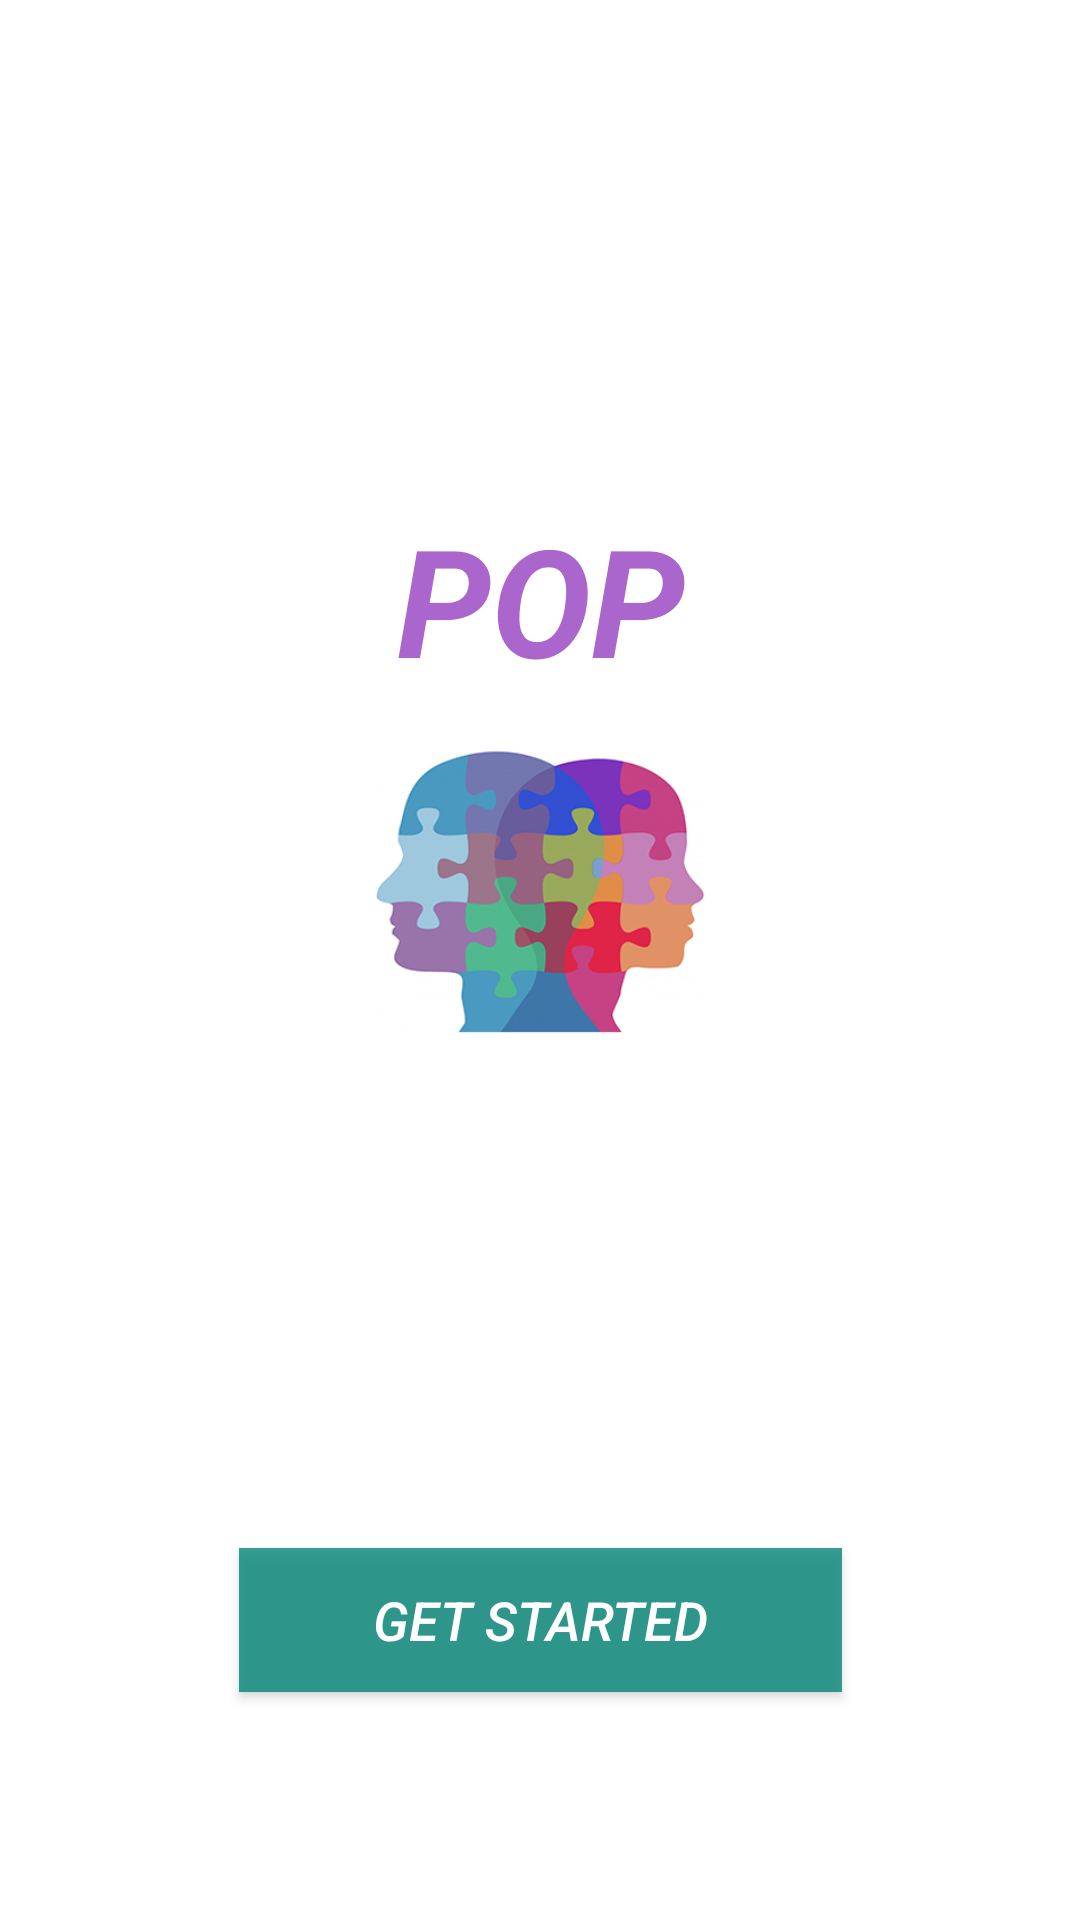

Icons on this 1080*1920 Android screen, each with its box as BBox(x1, y1, x2, y2):
mental health: BBox(376, 751, 704, 1033)
